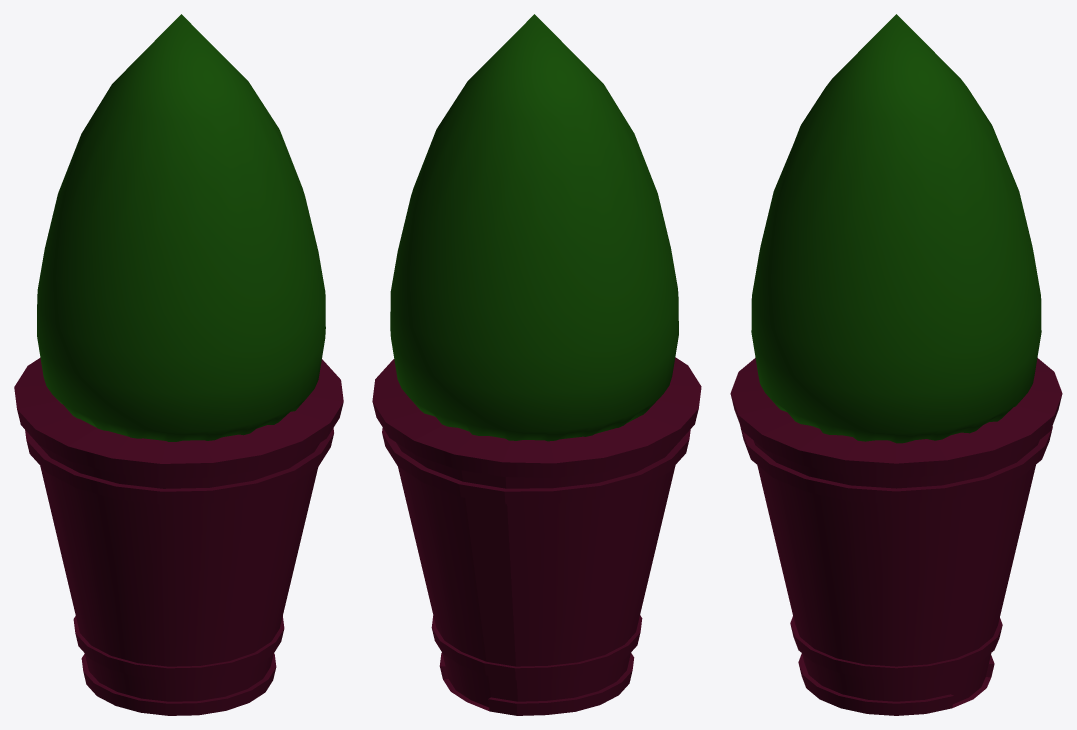
Rendered from Pflanze Einzeln.fbx.
3 views of the same model, side by side, from view 1: azimuth 30°, elevation 25°; view 2: azimuth 150°, elevation 25°; view 3: azimuth 270°, elevation 25° (orthographic).
Visible parts, largest first — view 1: pSphere6; view 2: pSphere6; view 3: pSphere6.
Part boxes in pixels (box(x1,y1,x2,y2)): pSphere6: box(14, 14, 343, 715); pSphere6: box(372, 14, 701, 715); pSphere6: box(730, 14, 1062, 715).
Size of the model in its own units: 59.7 by 132 by 59.7.
